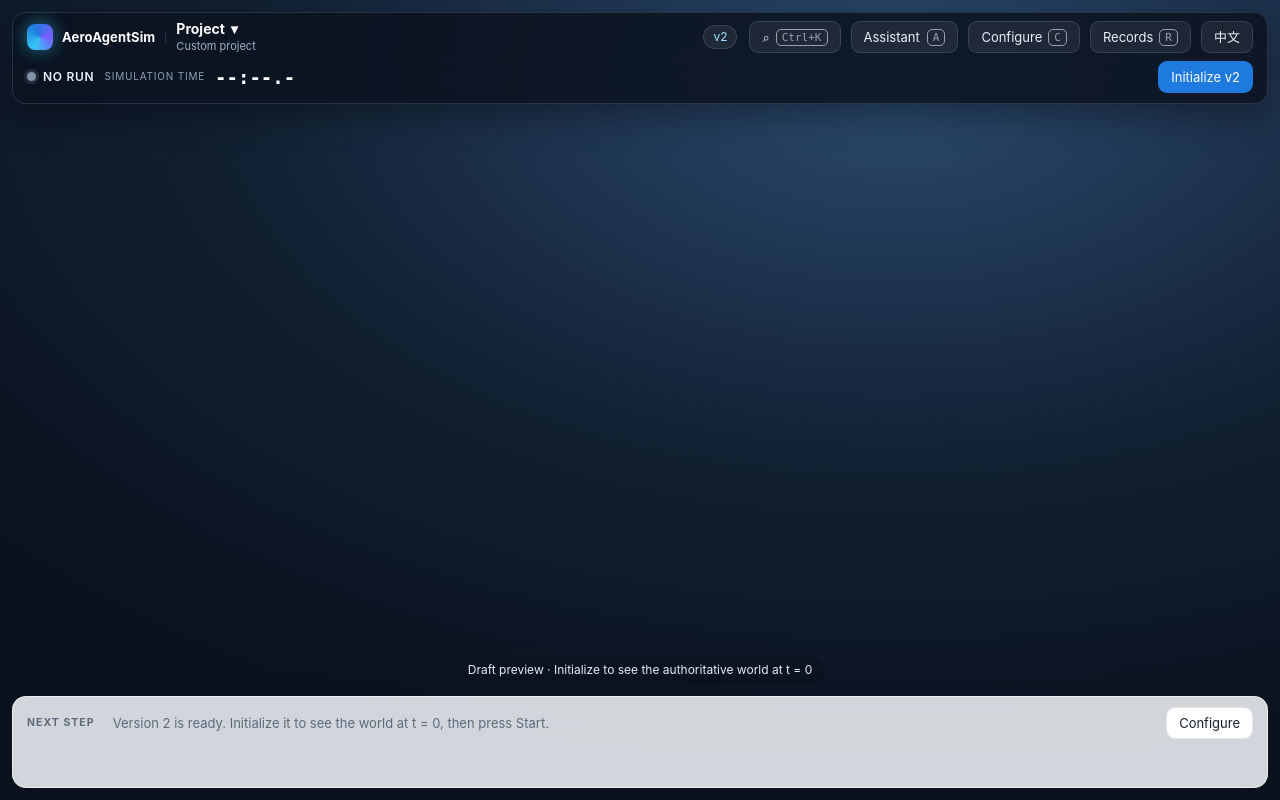
it: reports a pending initialization without success or Start (en-US)
The width and height of the screenshot is (1280, 800).
Click the button with test id "wb-init" at (1206, 77), box x1=1158 y1=61 x2=1253 y2=93
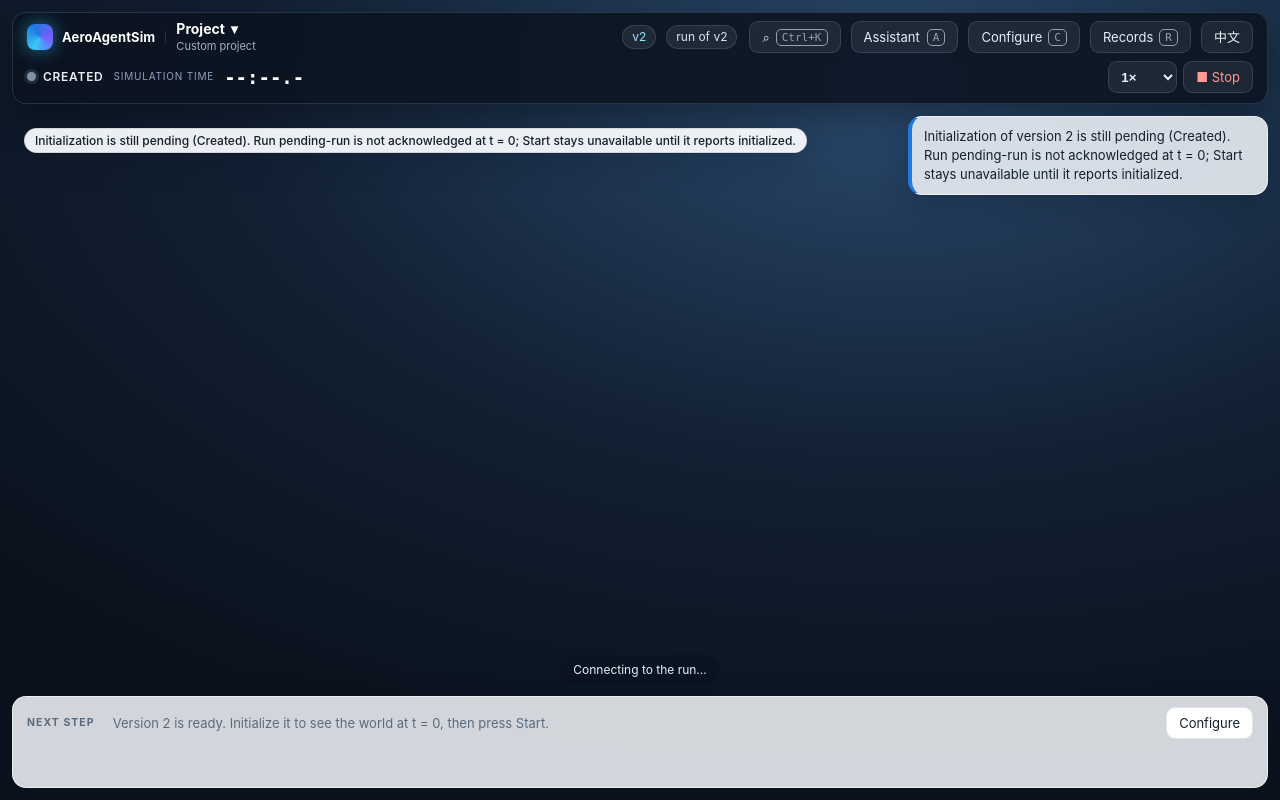
Expected: the text with test id "current-url" shows "run=pending-run", x1=77 y1=0 x2=303 y2=22
Expected: the message with test id "wb-init-pending" shows "Initialization is still pending", x1=35 y1=133 x2=796 y2=148
Expected: the message with test id "wb-init-pending" shows "pending-run", x1=35 y1=133 x2=796 y2=148
